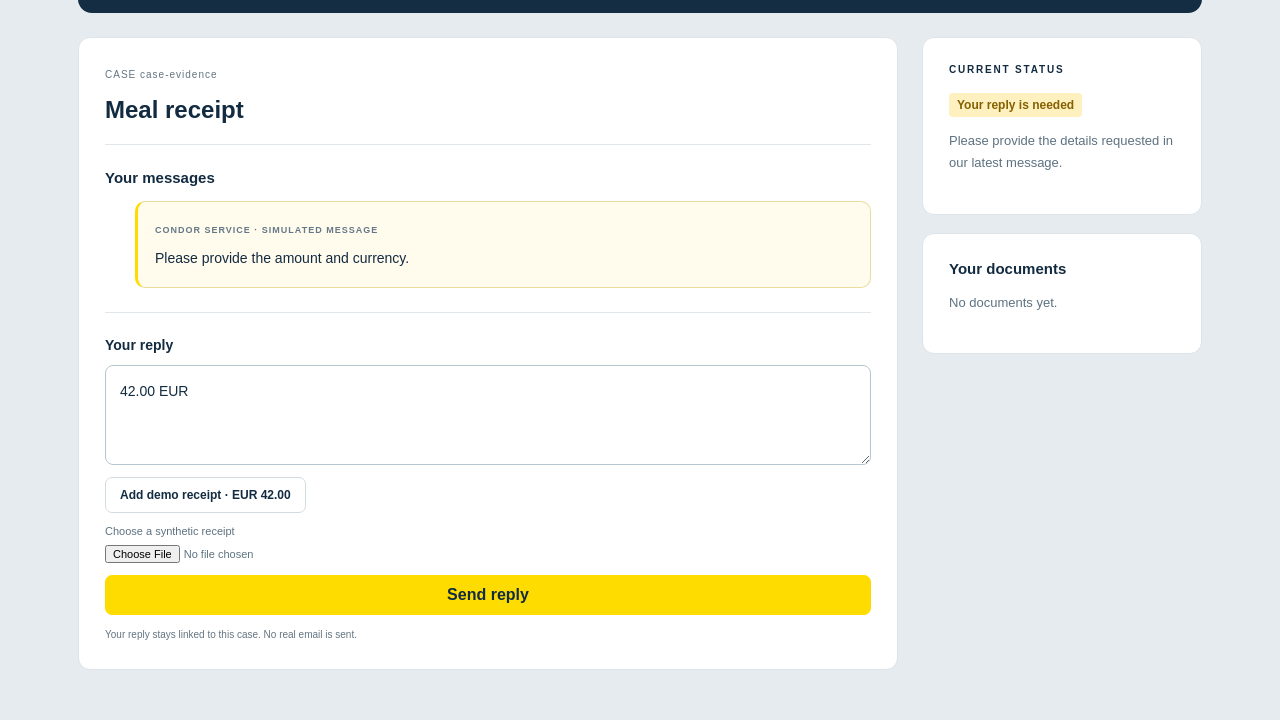
shows the customer conversation without internal case context and keeps a failed reply draft
(page scrolled)
Expected: the text "Please provide the amount and currency." is shown, x1=155 y1=250 x2=409 y2=266
Click the button "Send reply" at (488, 595), box x1=105 y1=575 x2=871 y2=615
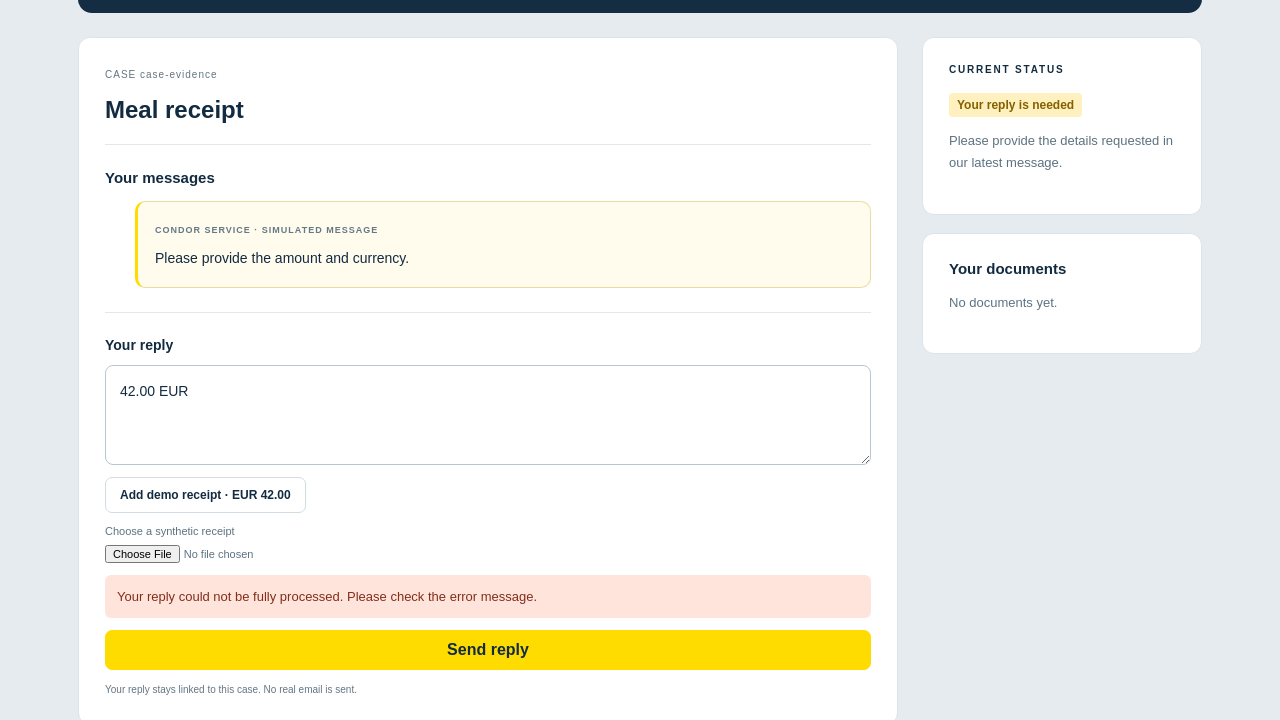
Expected: the text box labelled "Your reply" holds "42.00 EUR", x1=105 y1=365 x2=871 y2=465
Now the message "Your reply could not be fully processed. Please check the error message." is shown, box x1=105 y1=575 x2=871 y2=618
